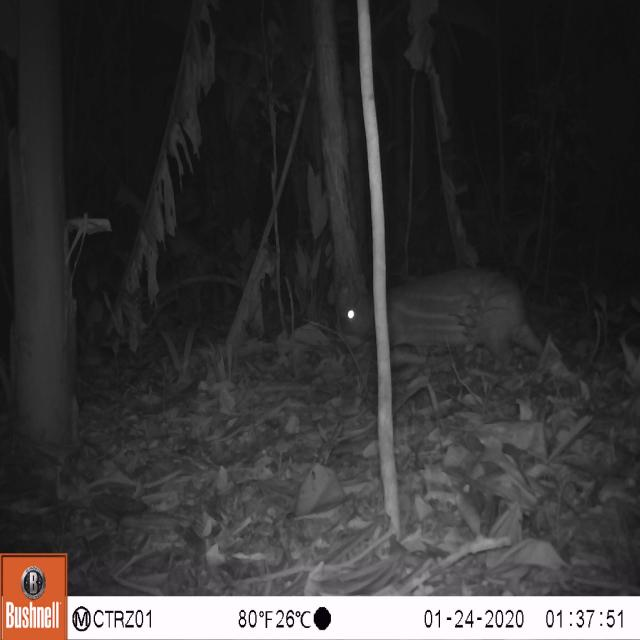Spotted Paca: (328, 261, 557, 391)
